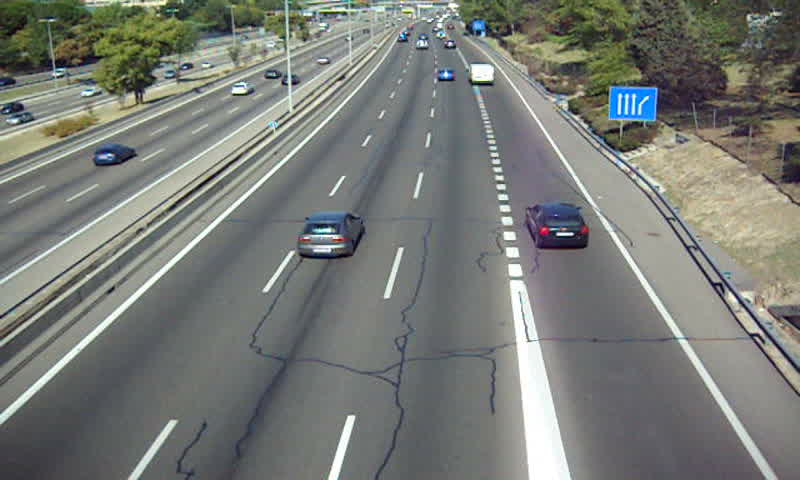car: (527, 204, 591, 249), (299, 214, 362, 258), (436, 70, 455, 84)
van: (470, 64, 494, 85)
